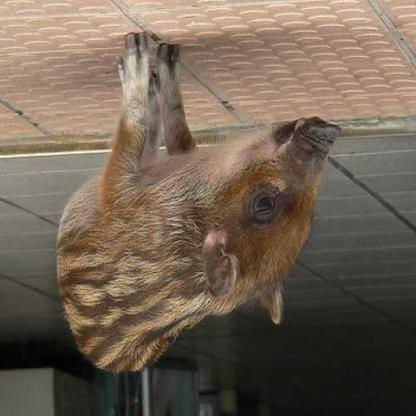boar: (22, 41, 348, 385)
